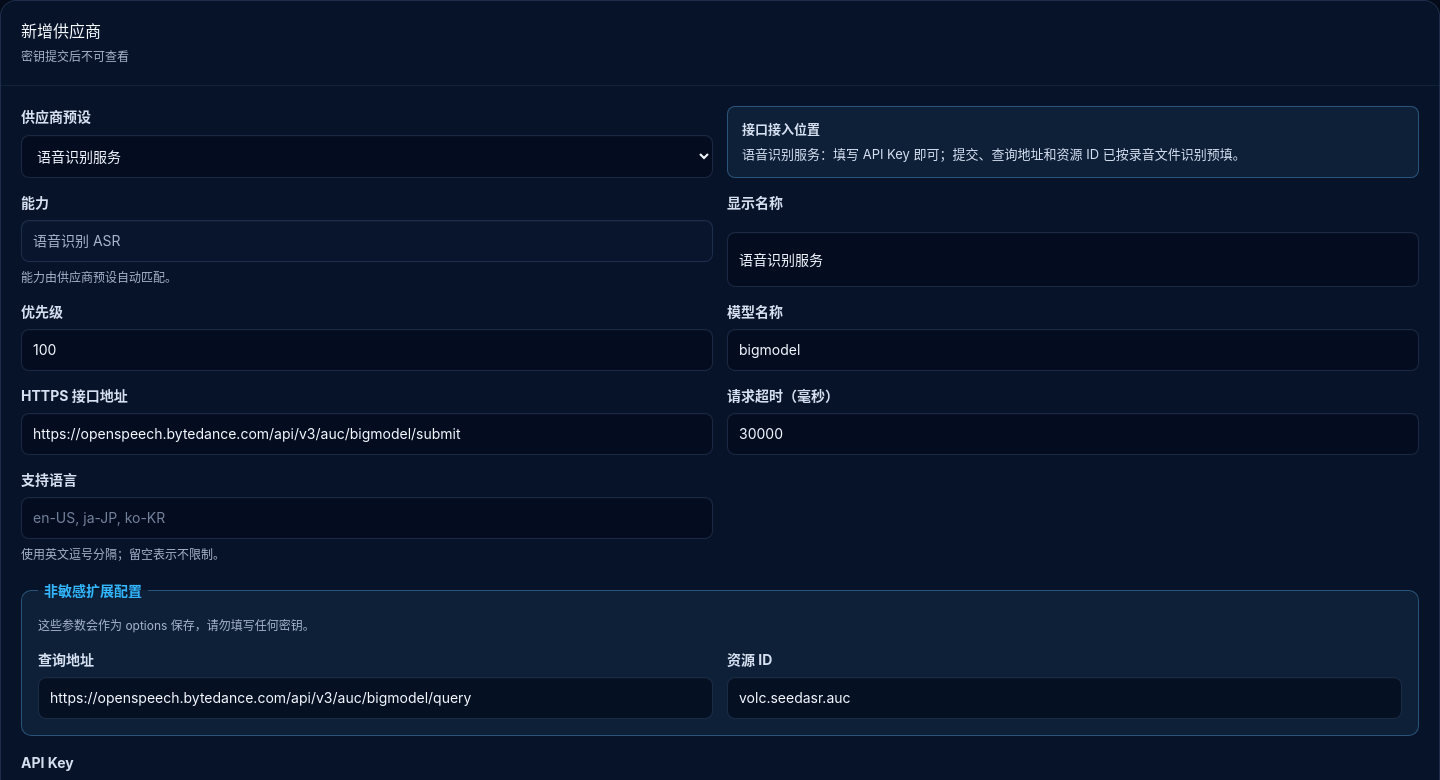
Scenario: ProviderEditor › prefills the official Seedream image generation fields
This screenshot has width=1440, height=780.
Select "图片生成服务" in the dropdown labelled "供应商预设": [367, 156] box [21, 135, 713, 178]
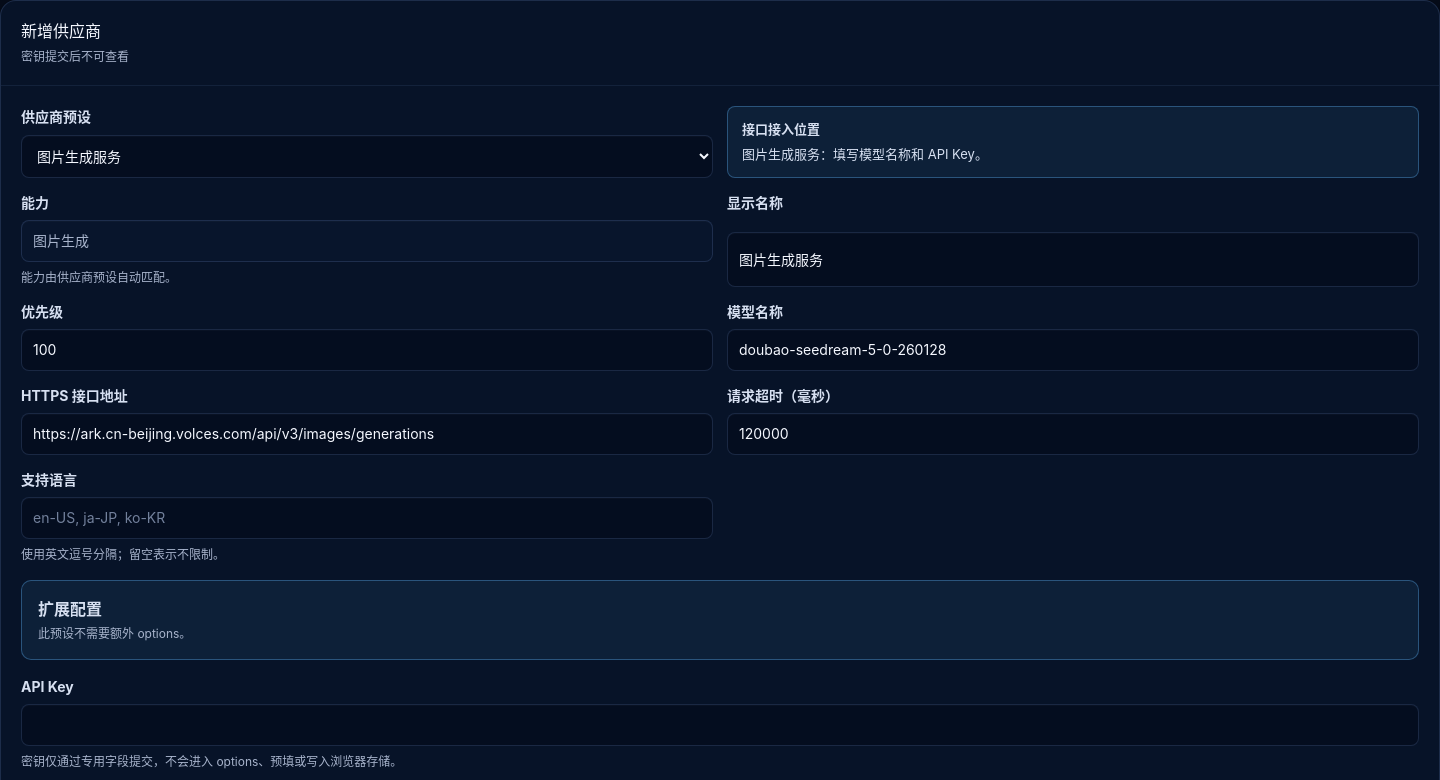
Check: the field labelled "模型名称" holds "doubao-seedream-5-0-260128", box [727, 329, 1419, 371]
Check: the field labelled "HTTPS 接口地址" holds "https://ark.cn-beijing.volces.com/api/v3/images/generations", box [21, 413, 713, 455]
Check: the number field labelled "请求超时（毫秒）" holds "120000", box [727, 413, 1419, 455]
